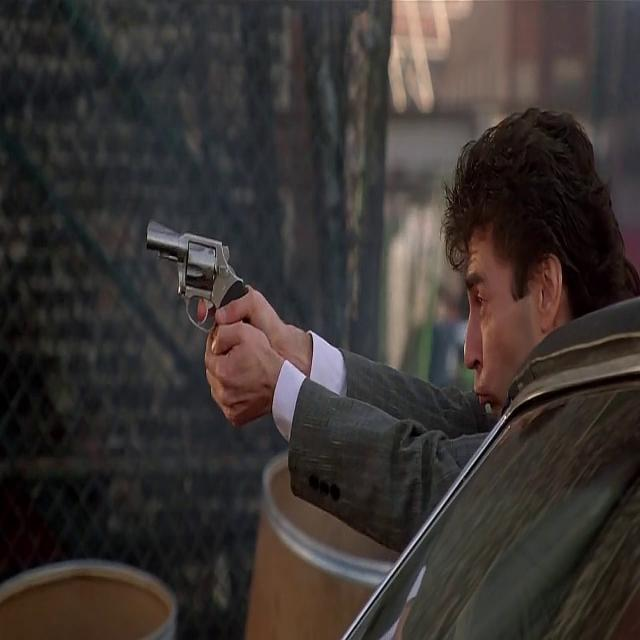gun-knife-thesis - v11 Yolov5 augmented: (146, 224, 258, 388)
